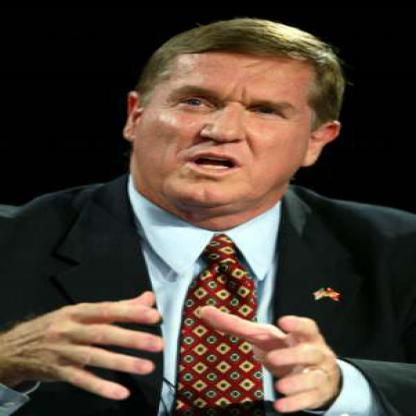face: (138, 20, 326, 208)
